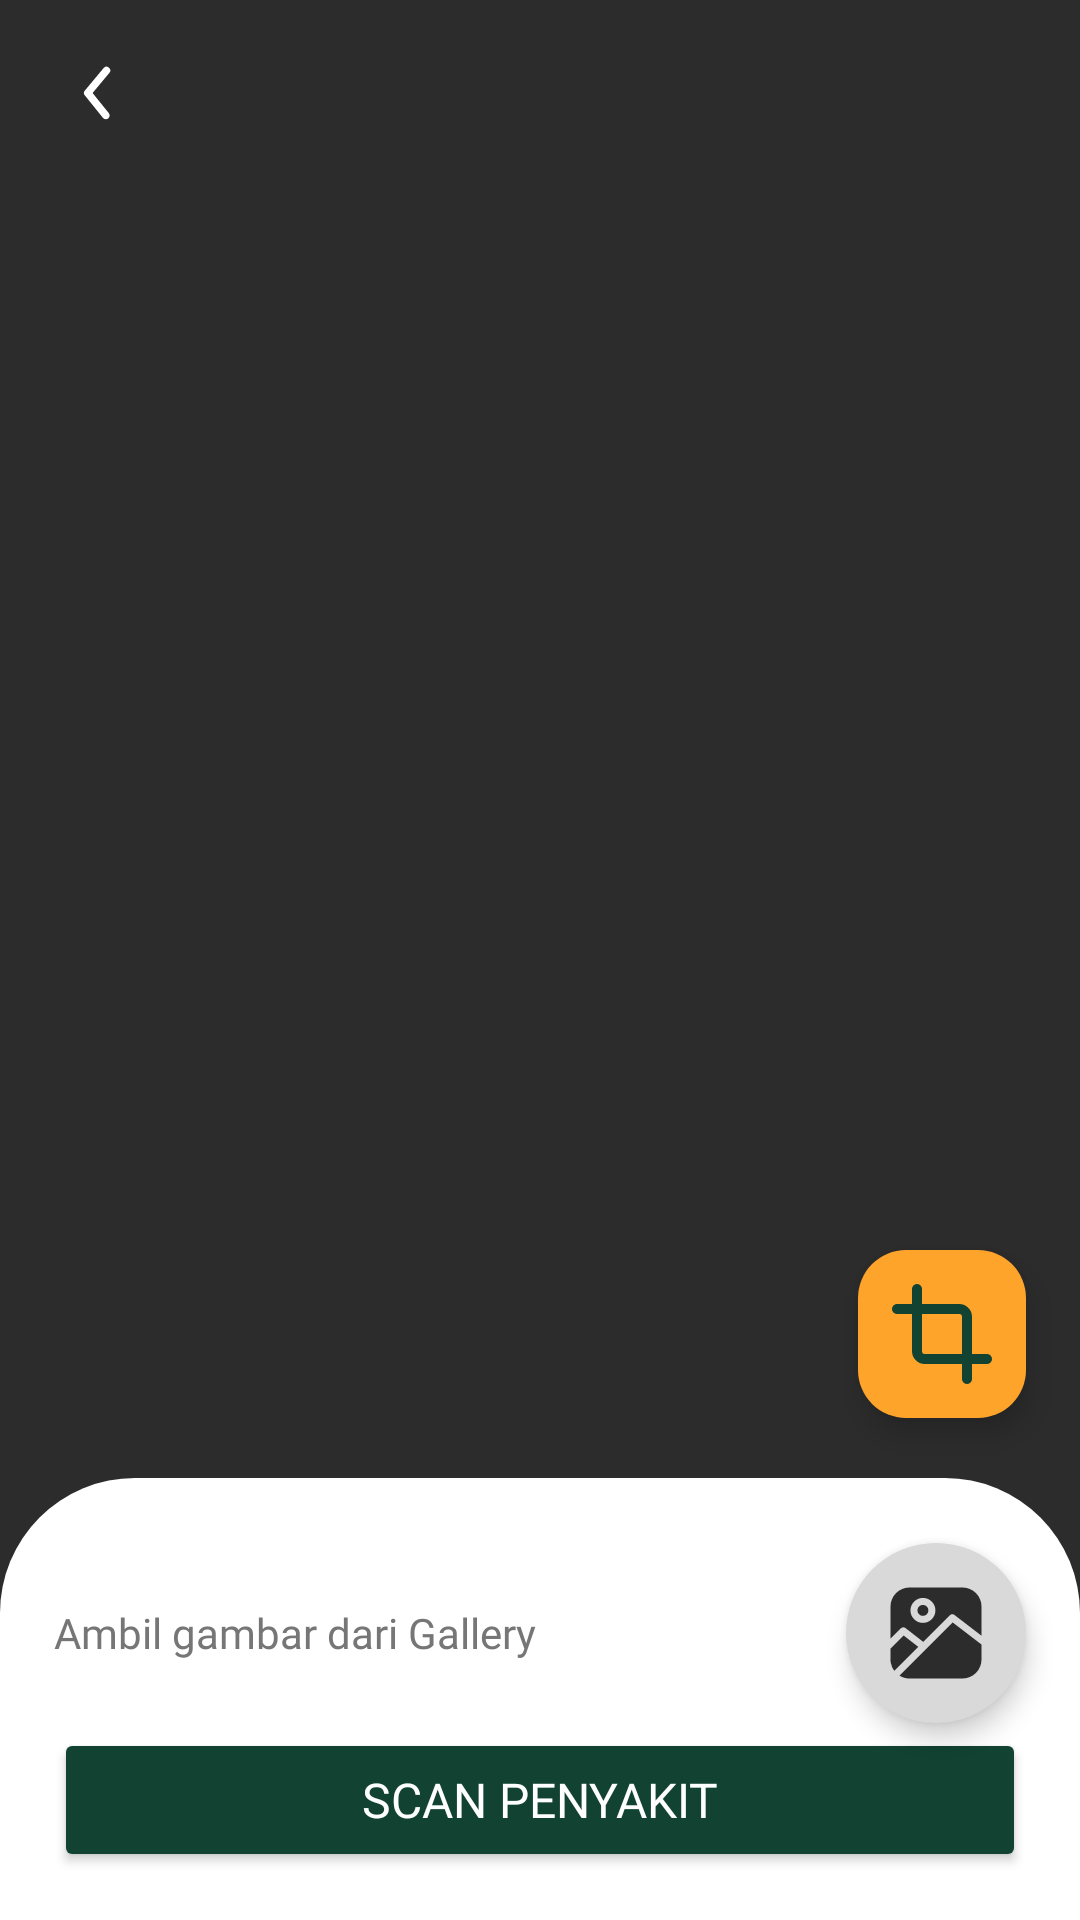

Locate icon controls on the screen. Image size 1080*1920, boxes as bbox=[x1, y1, x2, y2].
back: bbox=[84, 66, 111, 120]
crop: bbox=[858, 1250, 1026, 1418]
gallery: bbox=[846, 1543, 1026, 1723]
